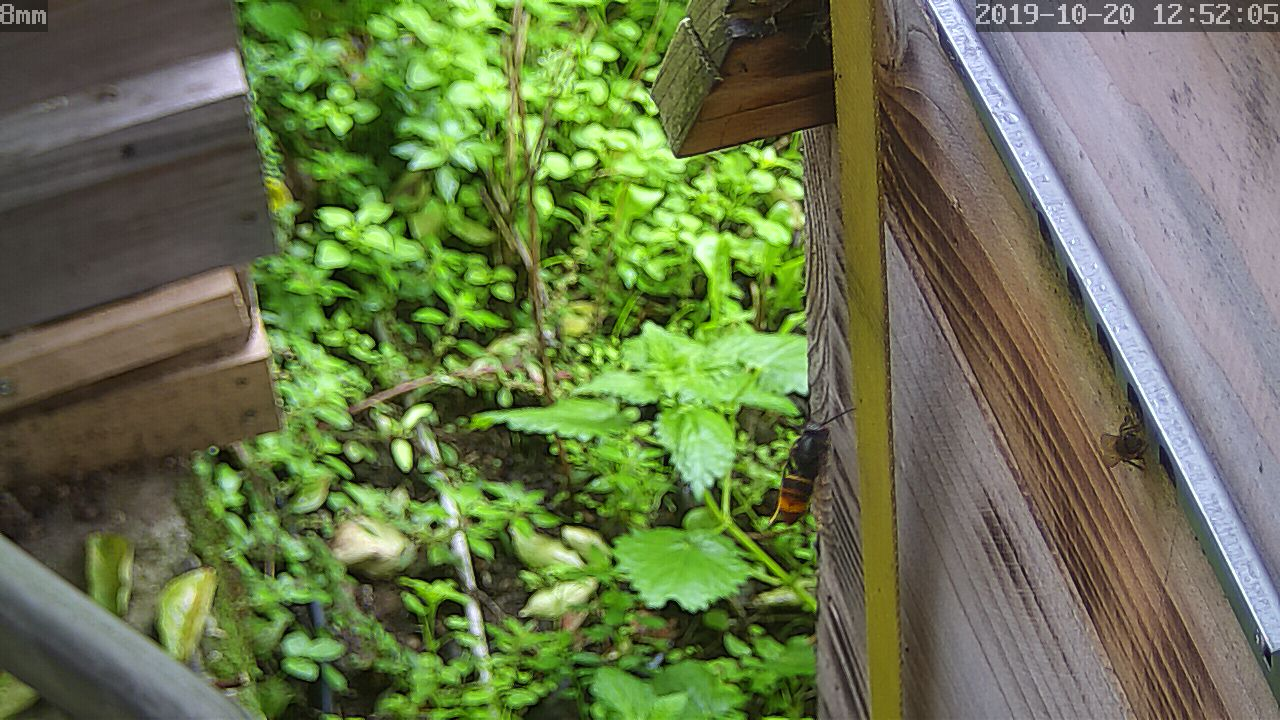bee: (1087, 409, 1150, 483)
hornet: (764, 407, 843, 532)
